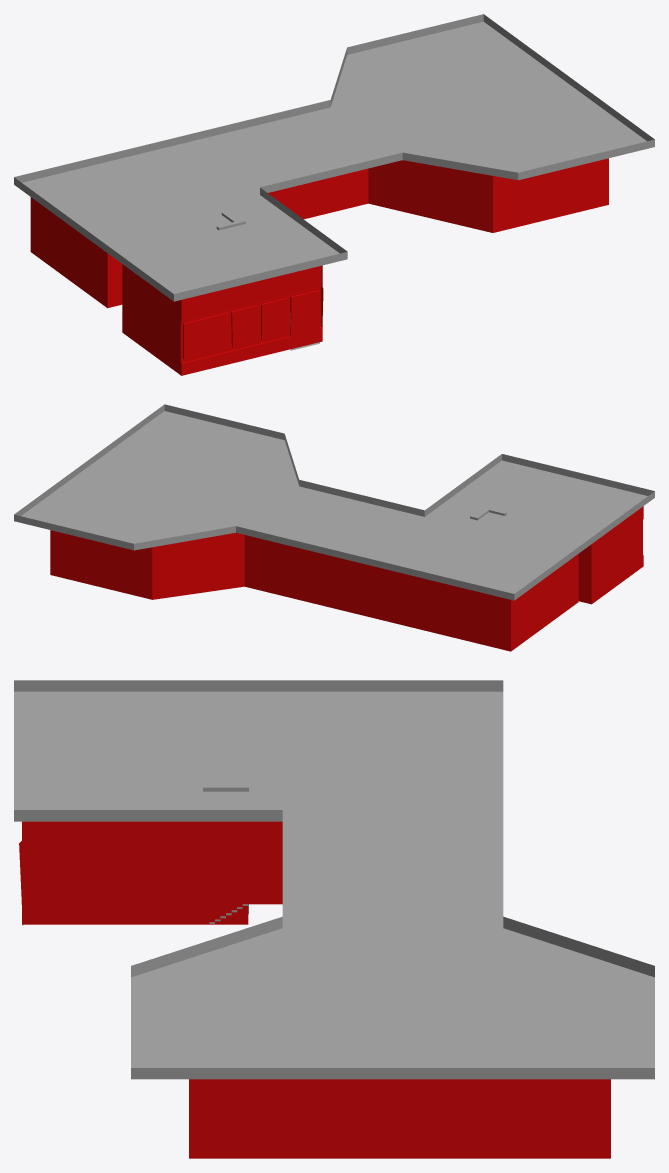
Rendered from Outershell Museum insidev3 no walls.fbx.
3 views of the same model, one above another, from view 1: azimuth 30°, elevation 25°; view 2: azimuth 150°, elevation 25°; view 3: azimuth 270°, elevation 25° (orthographic). The views are drawn at different scales.
Visible parts, largest first — view 1: pCube22, pCube1; view 2: pCube22, pCube1; view 3: pCube22, pCube1.
Boxes of the visible parts, <box> form: pCube22: <box>14,14,654,301</box>; pCube1: <box>30,158,608,375</box>; pCube22: <box>14,404,654,600</box>; pCube1: <box>50,506,643,651</box>; pCube22: <box>14,680,654,1079</box>; pCube1: <box>19,821,610,1158</box>.
Bounding box in the file's own units: 71.85 × 11.62 × 50.2.
